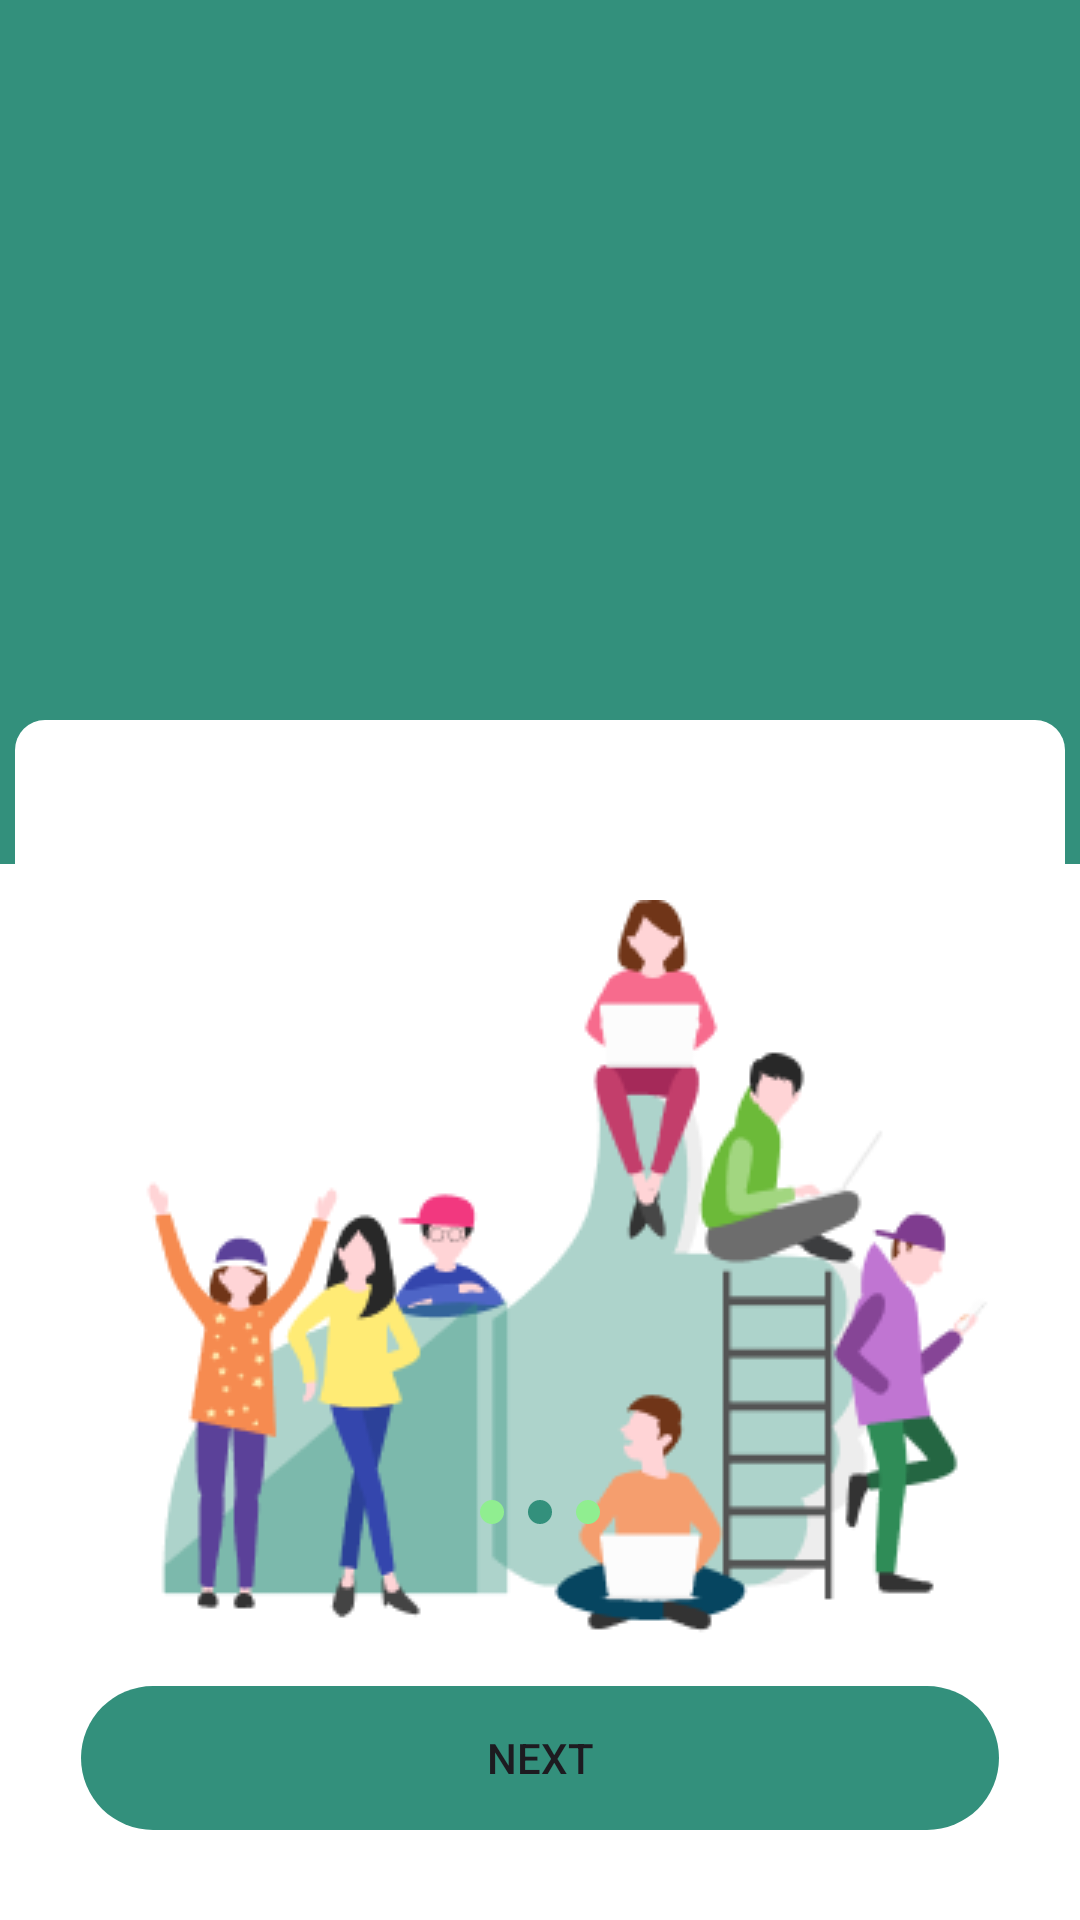

Screen size 1080x1920. Icon name, then its center in pixels as (x=x, y=y):
dot: (x=492, y=1512), (x=540, y=1512), (x=588, y=1512)
